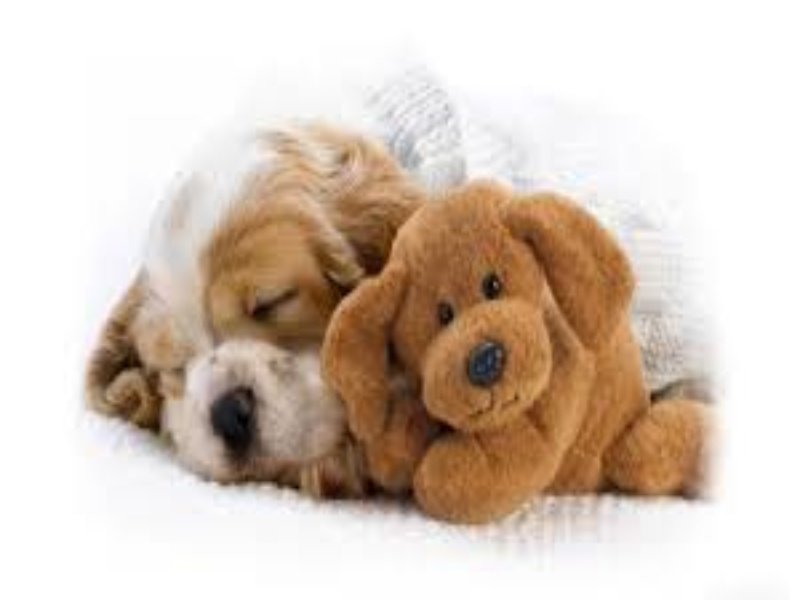dog: (325, 154, 731, 528), (80, 74, 397, 489)
